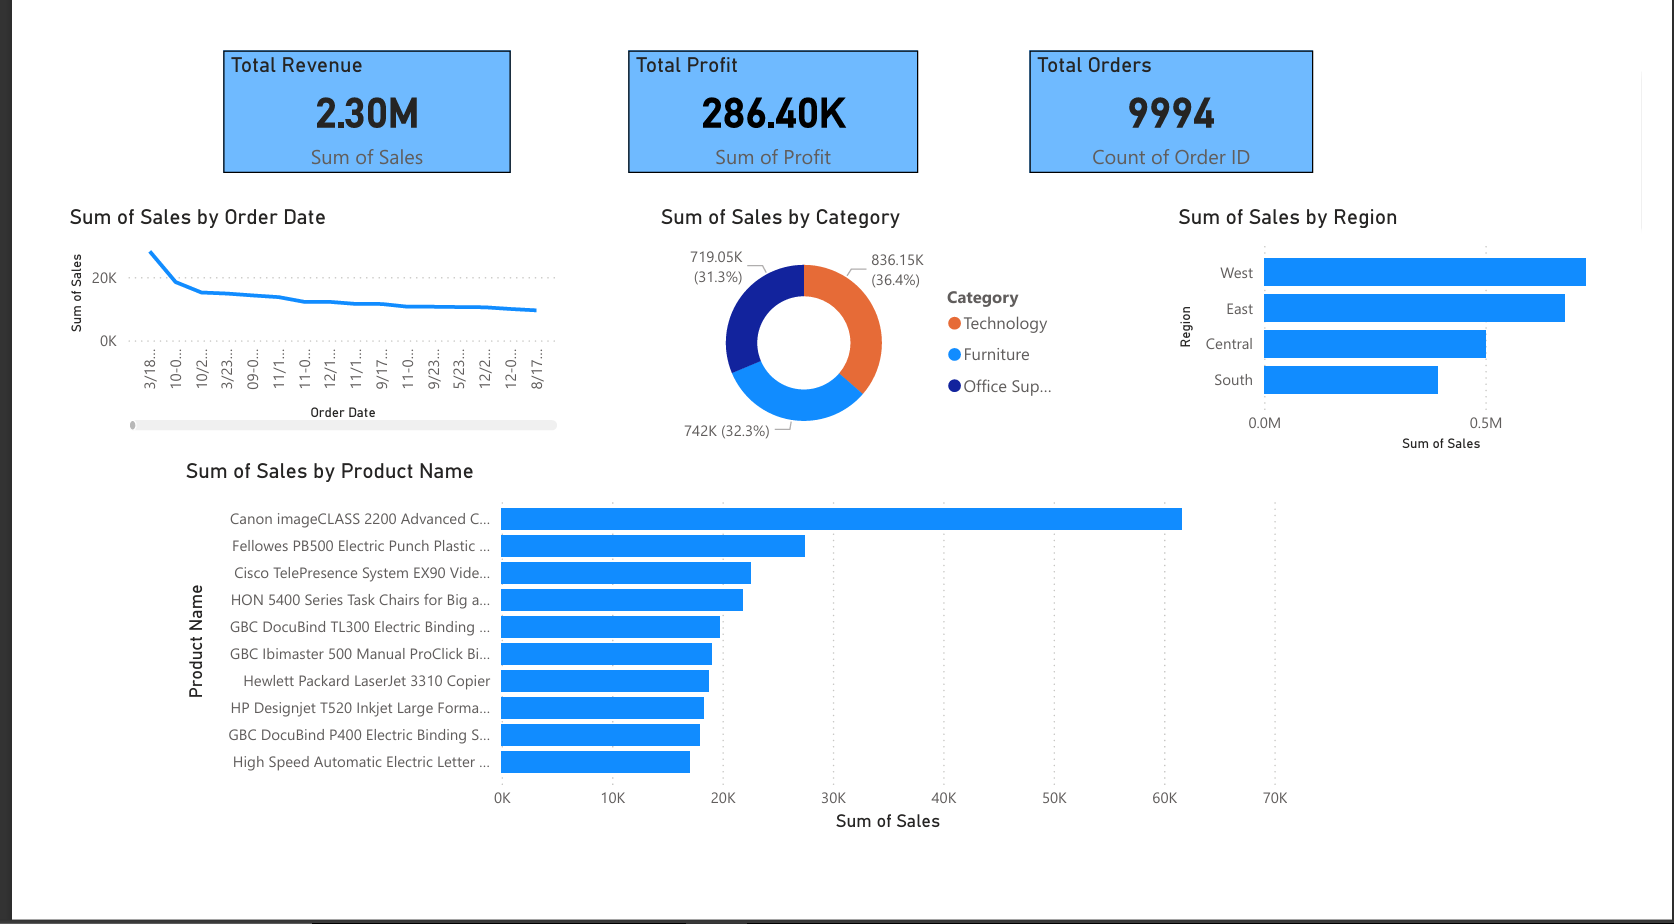

The dashboard page shown, as its layout file describes it:
{"tool":"powerbi","page":{"name":"Page 1","canvas":[1280,720],"ordinal":0},"visuals":[{"type":"card","title":"Total Revenue","fields":{"Values":["Sum(superstore csv.Sales)"]},"box":[145,18,230,98],"z":0},{"type":"card","title":"Total Profit","fields":{"Values":["Sum(superstore csv.Profit)"]},"box":[469,18,232,98],"z":1000},{"type":"card","title":"Total Orders","fields":{"Values":["CountNonNull(superstore csv.Order ID)"]},"box":[790,18,227,98],"z":2000},{"type":"lineChart","fields":{"Category":["superstore csv.Order Date"],"Y":["Sum(superstore csv.Sales)"]},"box":[17,141,400,186],"z":3000},{"type":"clusteredBarChart","fields":{"Category":["superstore csv.Product Name"],"Y":["Sum(superstore csv.Sales)"]},"box":[110,344,891,304],"z":4000},{"type":"donutChart","fields":{"Category":["superstore csv.Category"],"Y":["Sum(superstore csv.Sales)"]},"box":[490,141,338,203],"z":5000},{"type":"clusteredBarChart","fields":{"Category":["superstore csv.Region"],"Y":["Sum(superstore csv.Sales)"]},"box":[904,141,376,203],"z":6000}]}

Visuals, with their boxes in screenshot pixels (x1, y1, x2, y2), scaled from the page's 1280x720 canvas onto the 1674x924 screenshot:
"Total Revenue" card: [190,23,490,149]
"Total Profit" card: [613,23,917,149]
"Total Orders" card: [1033,23,1330,149]
lineChart - superstore csv.Order Date x Sum(superstore csv.Sales): [22,181,545,420]
clusteredBarChart - superstore csv.Product Name x Sum(superstore csv.Sales): [144,441,1309,832]
donutChart - superstore csv.Category x Sum(superstore csv.Sales): [641,181,1083,441]
clusteredBarChart - superstore csv.Region x Sum(superstore csv.Sales): [1182,181,1673,441]
